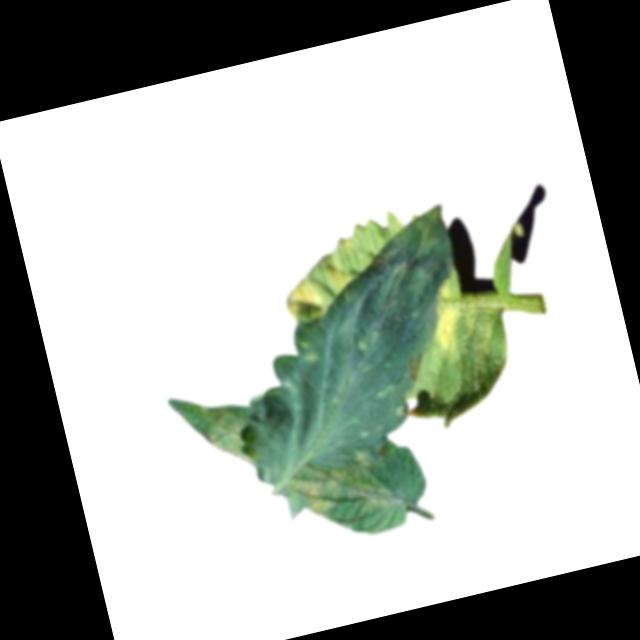Leaf_Mold: (288, 450, 388, 524), (199, 400, 256, 471), (279, 268, 331, 327), (425, 297, 472, 361)
